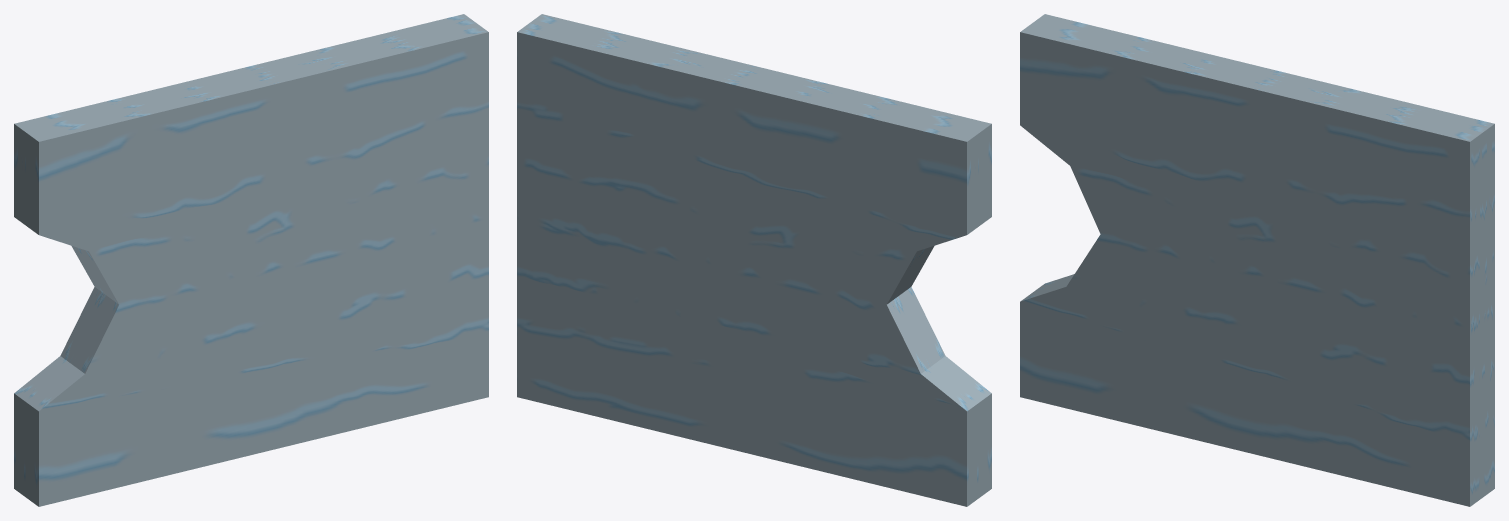
The model's file is A1_Wall002.fbx.
3 views of the same model, side by side, from view 1: azimuth 30°, elevation 25°; view 2: azimuth 150°, elevation 25°; view 3: azimuth 330°, elevation 25° (orthographic).
Parts seen in each view (by area): view 1: A1_Wall_pt2; view 2: A1_Wall_pt2; view 3: A1_Wall_pt2.
Part boxes in pixels (bbox=[...]): A1_Wall_pt2: bbox=[14, 14, 488, 506]; A1_Wall_pt2: bbox=[517, 14, 991, 506]; A1_Wall_pt2: bbox=[1020, 14, 1494, 506].
Size of the model in its own units: 380 by 295 by 36.2.
1 material, 1 textured.
